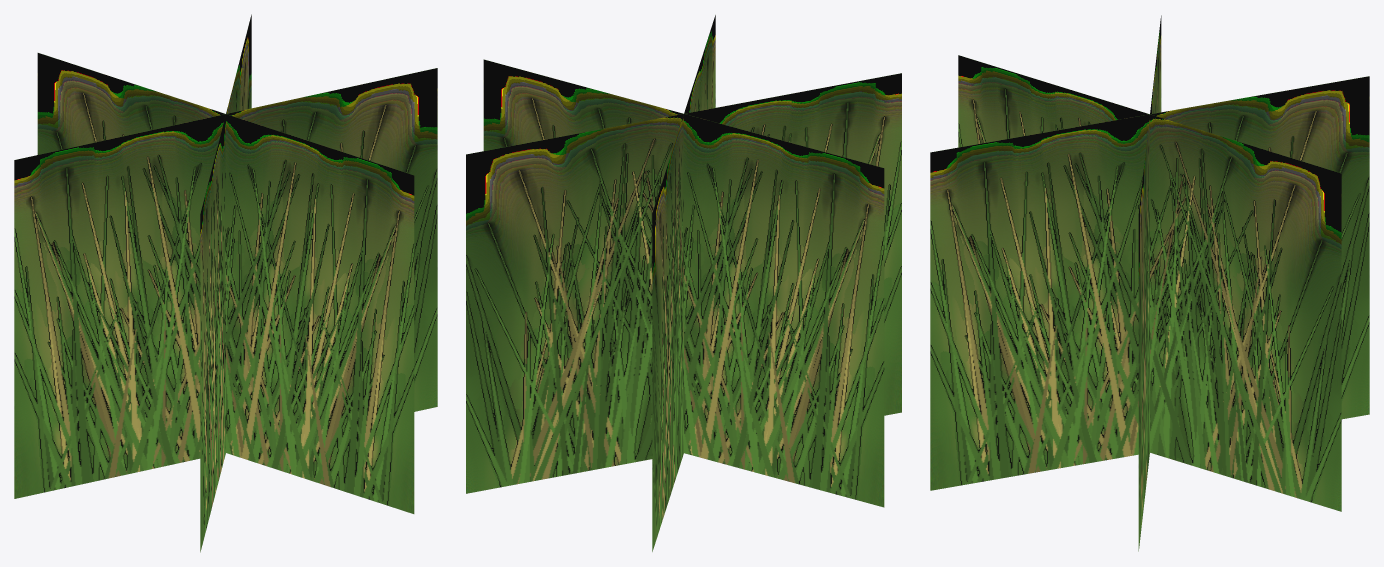
The model's file is grass_a.glb.
The picture shows the model from 3 angles, left to right: view 1: azimuth 30°, elevation 25°; view 2: azimuth 150°, elevation 25°; view 3: azimuth 270°, elevation 25°; orthographic projection.
Visible parts, largest first — view 1: grass_a; view 2: grass_a; view 3: grass_a.
Boxes of the visible parts, x1,y1,x2,y2 form: grass_a: (14,14,437,552); grass_a: (466,15,901,551); grass_a: (930,15,1369,551).
Bounding box in the file's own units: 0.6992 × 0.55 × 0.6474.
1 material, 1 textured.
